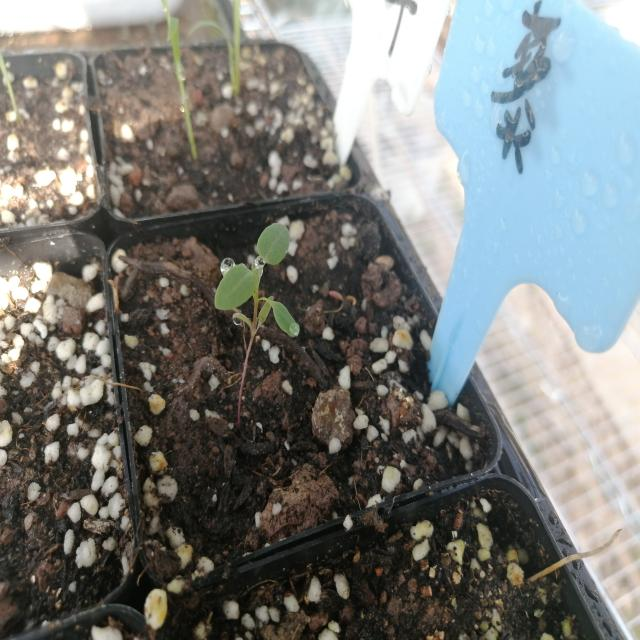goosefoots: (190, 209, 324, 368)
